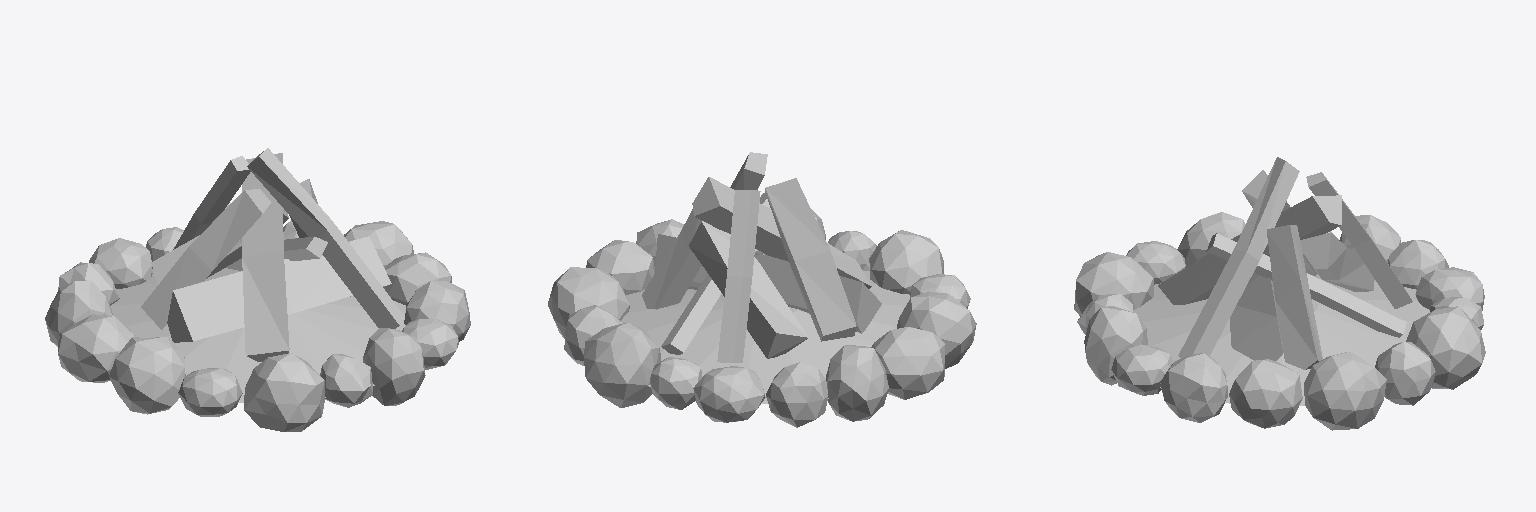
Rendered from Bonfire.obj.
3 renders of one model, left to right at view 1: azimuth 30°, elevation 25°; view 2: azimuth 150°, elevation 25°; view 3: azimuth 270°, elevation 25°, orthographic.
Visible parts, largest first — view 1: Bonfire_Cylinder; view 2: Bonfire_Cylinder; view 3: Bonfire_Cylinder.
Boxes of the visible parts, x1,y1,x2,y2 form: Bonfire_Cylinder: [45, 148, 470, 431]; Bonfire_Cylinder: [548, 152, 976, 427]; Bonfire_Cylinder: [1074, 157, 1485, 430].
Bounding box in the file's own units: 2.49 × 1.3 × 2.38.